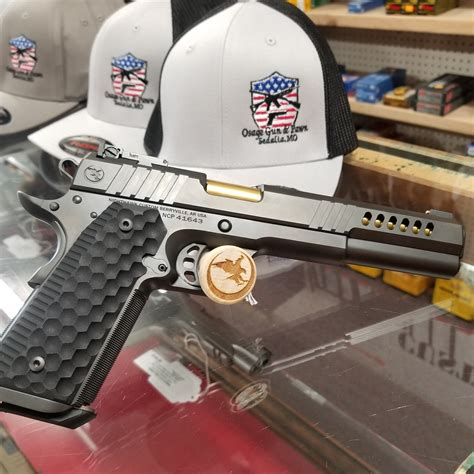gun: (0, 151, 467, 431)
